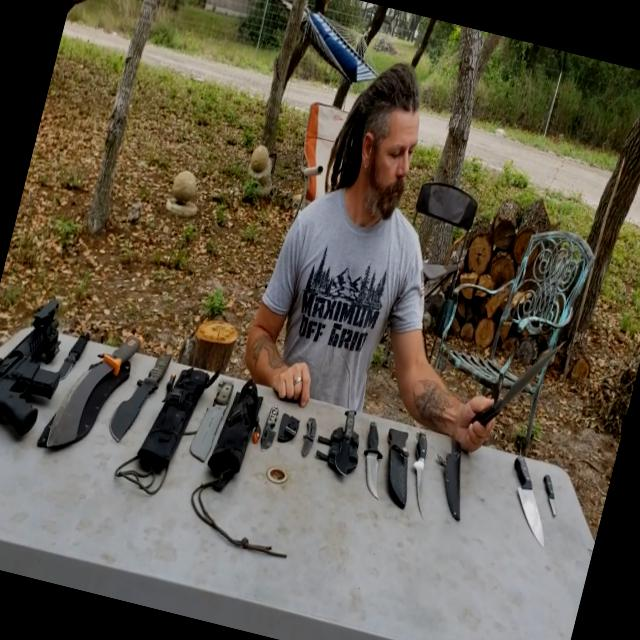knife: (454, 306, 578, 460), (48, 311, 143, 458), (488, 436, 580, 556), (105, 324, 182, 441), (346, 400, 422, 508), (396, 419, 458, 521), (44, 313, 100, 412), (326, 384, 379, 486), (188, 370, 244, 465), (294, 400, 336, 476), (528, 463, 578, 525), (254, 395, 293, 450)
long weapon: (0, 269, 103, 511)
